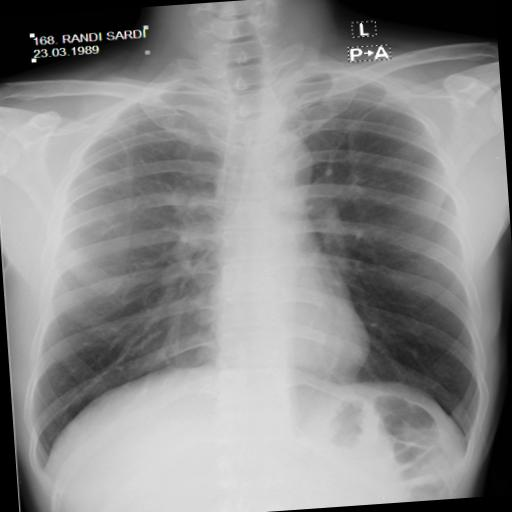normal: (0, 40, 499, 491)
